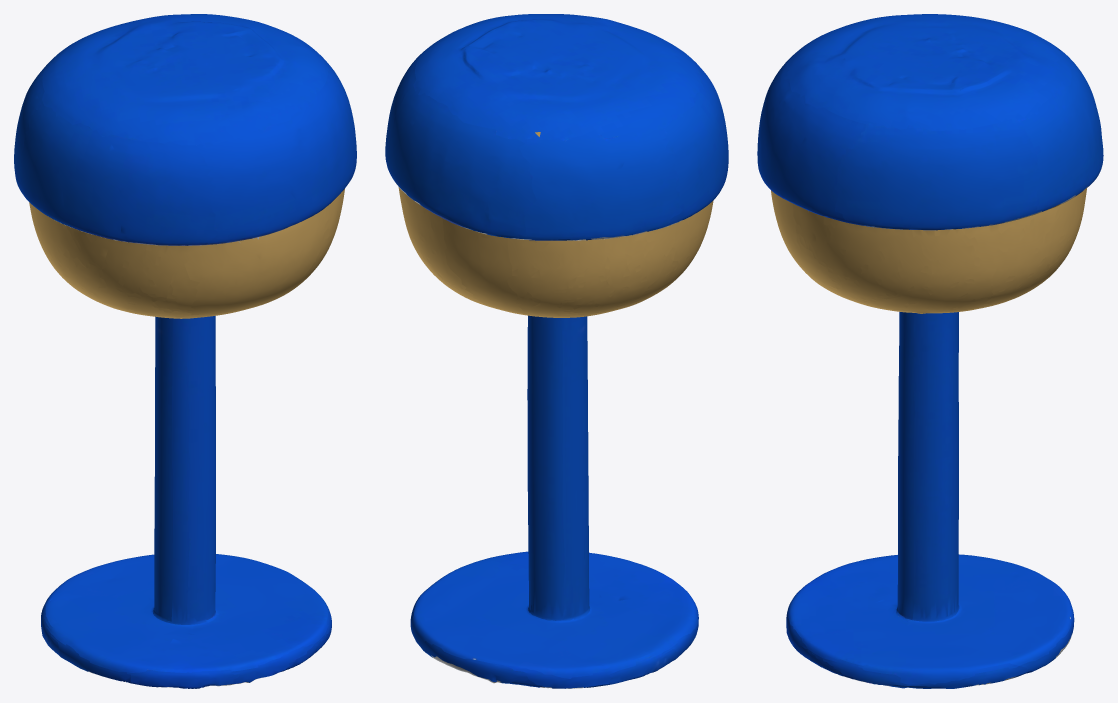
File: lightlamp.glb
The picture shows the model from 3 angles, left to right: view 1: azimuth 30°, elevation 25°; view 2: azimuth 150°, elevation 25°; view 3: azimuth 270°, elevation 25°; orthographic projection.
Visible parts, largest first — view 1: textured_mesh.001; view 2: textured_mesh.001; view 3: textured_mesh.001.
Part boxes in pixels (left/top/right/bottom): textured_mesh.001: left=14, top=14, right=356, bottom=688; textured_mesh.001: left=385, top=14, right=728, bottom=688; textured_mesh.001: left=757, top=14, right=1103, bottom=688.
Bounding box in the file's own units: 1.82 × 3.36 × 1.82.
Materials: 2 (1 with a texture image).
